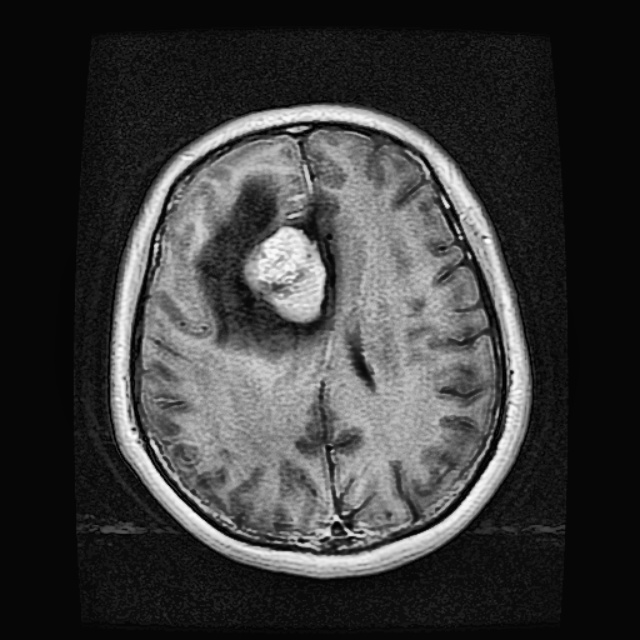Pituitary: (245, 227, 325, 323)
